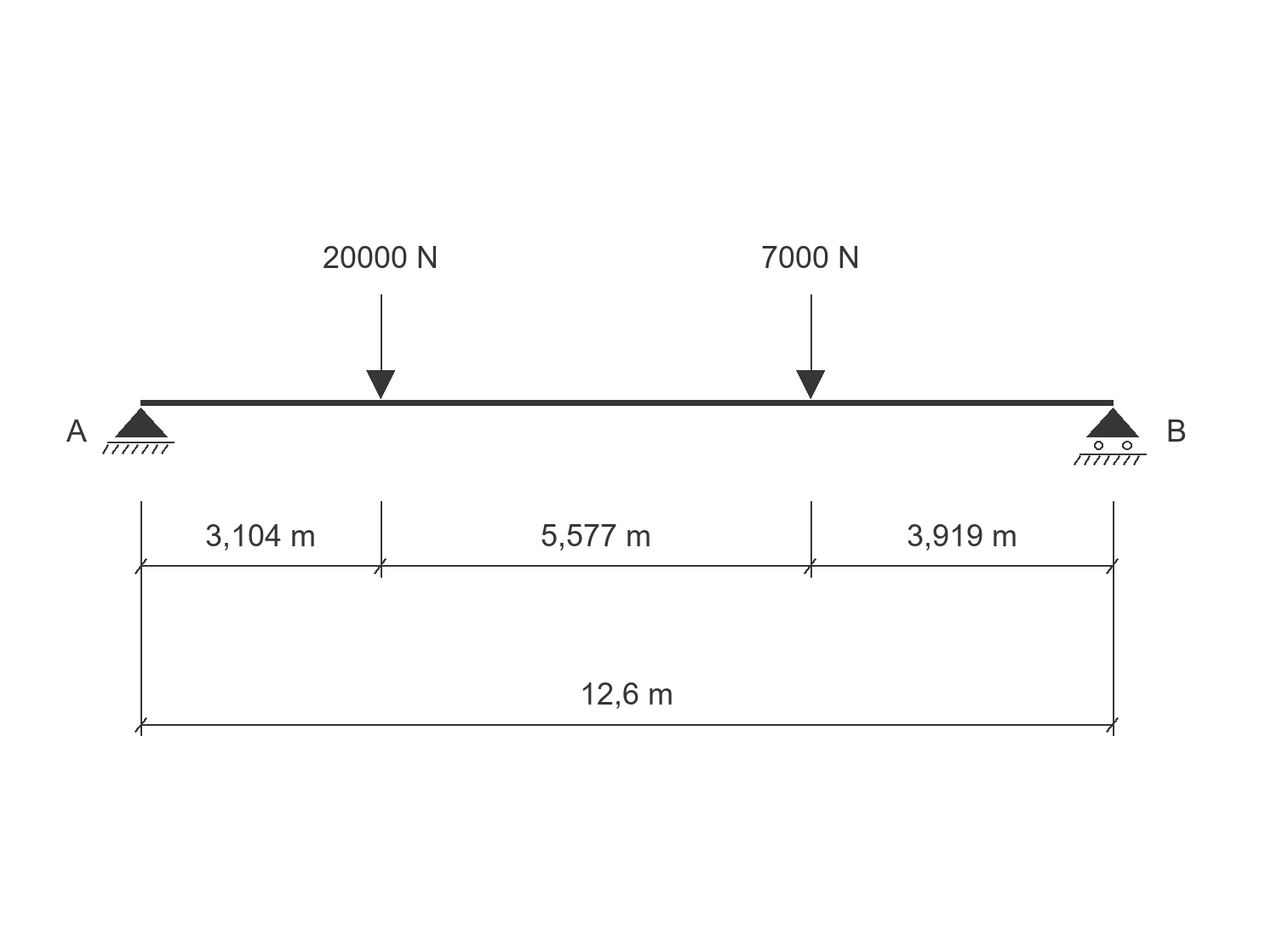pin_support: (102, 408, 175, 454)
point_load: (366, 294, 395, 399), (796, 294, 825, 399)
roller_support: (1074, 408, 1147, 465)
